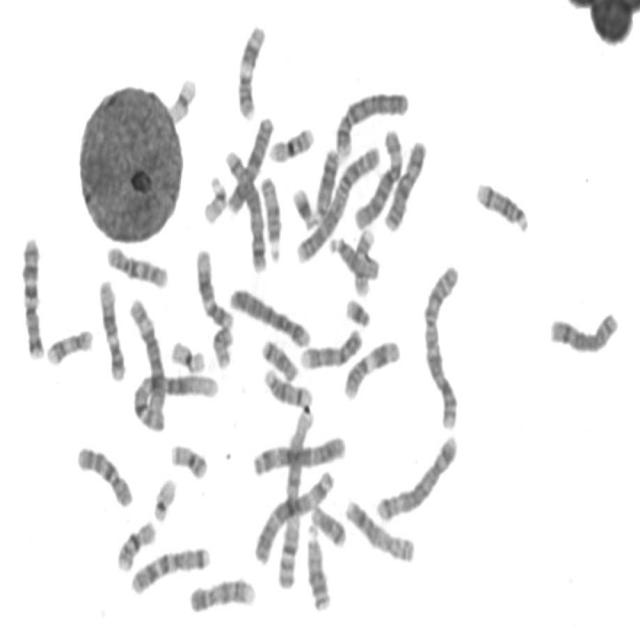A1: (274, 398, 317, 592), (129, 365, 222, 434)
A2: (293, 140, 384, 266), (420, 256, 464, 430)
A3: (250, 464, 338, 566), (249, 429, 348, 477)
B4: (332, 85, 412, 159), (227, 281, 313, 349)
B5: (373, 428, 461, 523), (221, 142, 269, 274)
C10: (73, 439, 136, 510), (103, 239, 171, 290)
C11: (341, 334, 403, 402), (234, 18, 268, 122)
C12: (192, 243, 236, 331), (95, 274, 128, 382)
C6: (352, 122, 406, 232), (126, 290, 169, 424)
C7: (127, 539, 213, 597), (18, 230, 47, 362)
C8: (342, 493, 418, 564), (546, 305, 621, 355)
C9: (298, 322, 365, 371), (186, 571, 258, 616)
D13: (303, 518, 334, 613), (312, 142, 342, 220)
D14: (472, 175, 532, 235), (261, 362, 315, 410)
D15: (326, 231, 382, 281), (258, 170, 285, 264)
E16: (114, 515, 158, 574), (266, 120, 316, 164)
E17: (43, 322, 96, 367), (350, 221, 377, 299)
E18: (258, 333, 301, 382), (307, 499, 348, 549)
F19: (166, 70, 199, 125), (168, 335, 207, 375)
F20: (167, 438, 211, 481), (209, 320, 236, 370)
G21: (290, 181, 320, 230), (342, 292, 373, 329)
G22: (200, 169, 230, 226), (150, 472, 178, 523)
X: (224, 110, 276, 216), (381, 133, 429, 232)
